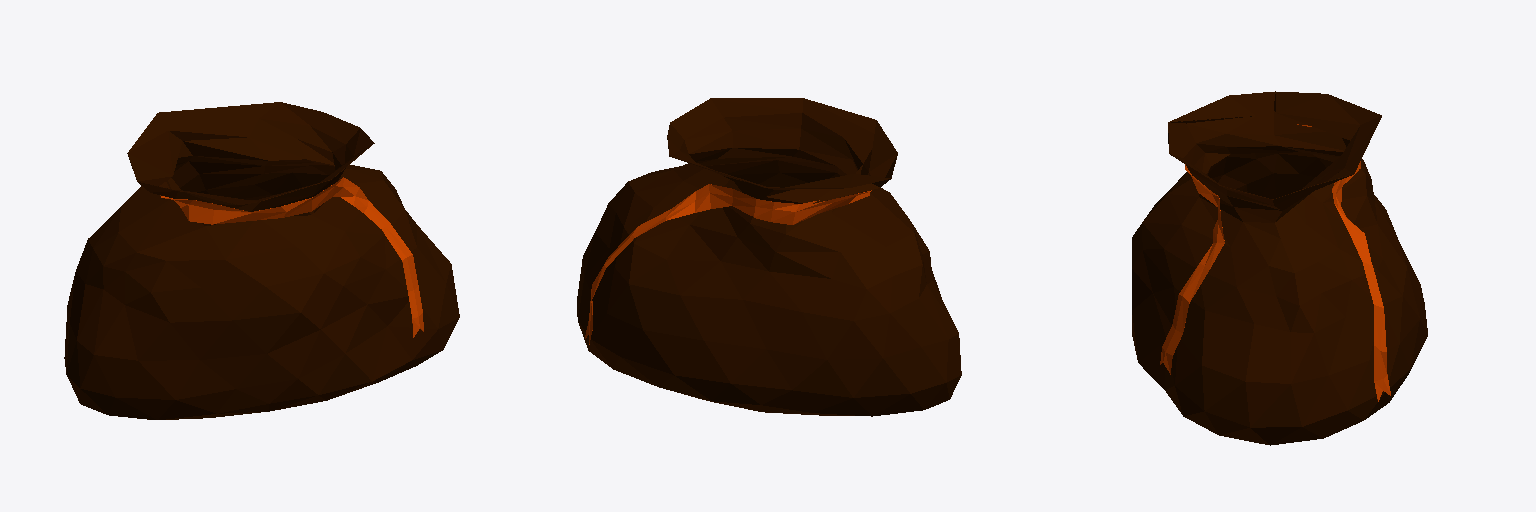
The model's file is coin_purse_open.obj.
The picture shows the model from 3 angles: view 1: azimuth 30°, elevation 25°; view 2: azimuth 150°, elevation 25°; view 3: azimuth 270°, elevation 25°; orthographic projection.
Parts seen in each view (by area): view 1: coin_purse_open; view 2: coin_purse_open; view 3: coin_purse_open.
Boxes of the visible parts, x1,y1,x2,y2 form: coin_purse_open: [64, 102, 459, 419]; coin_purse_open: [577, 98, 961, 416]; coin_purse_open: [1132, 91, 1427, 445].
Bounding box in the file's own units: 1.83 × 1.11 × 1.27.